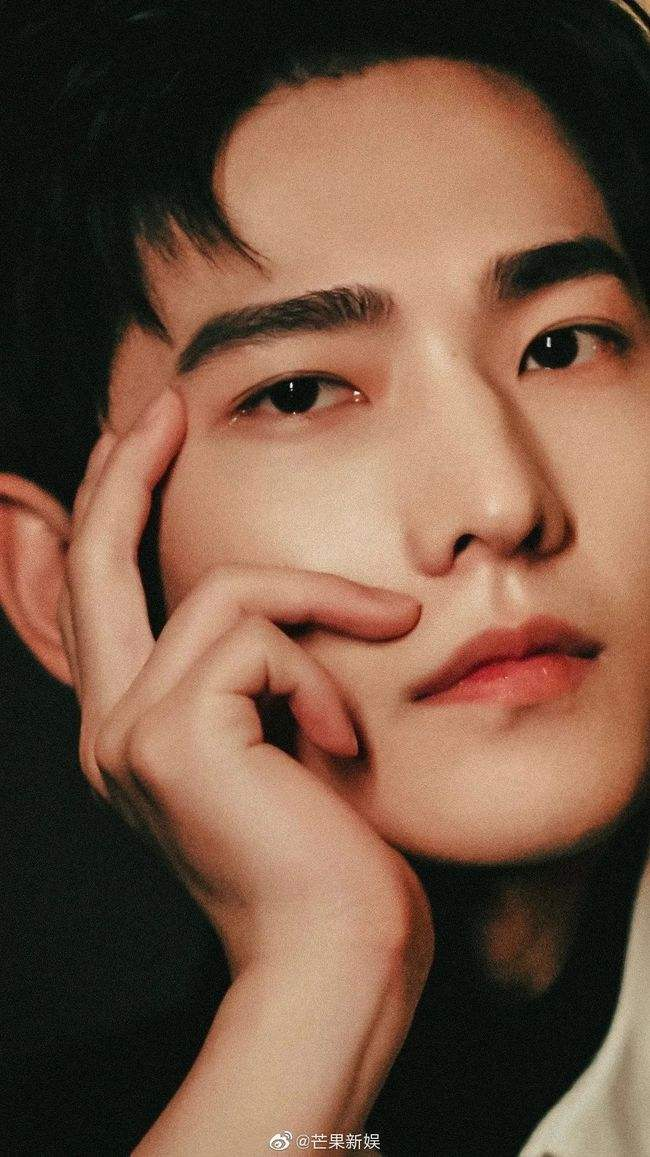person: (38, 124, 639, 1086)
